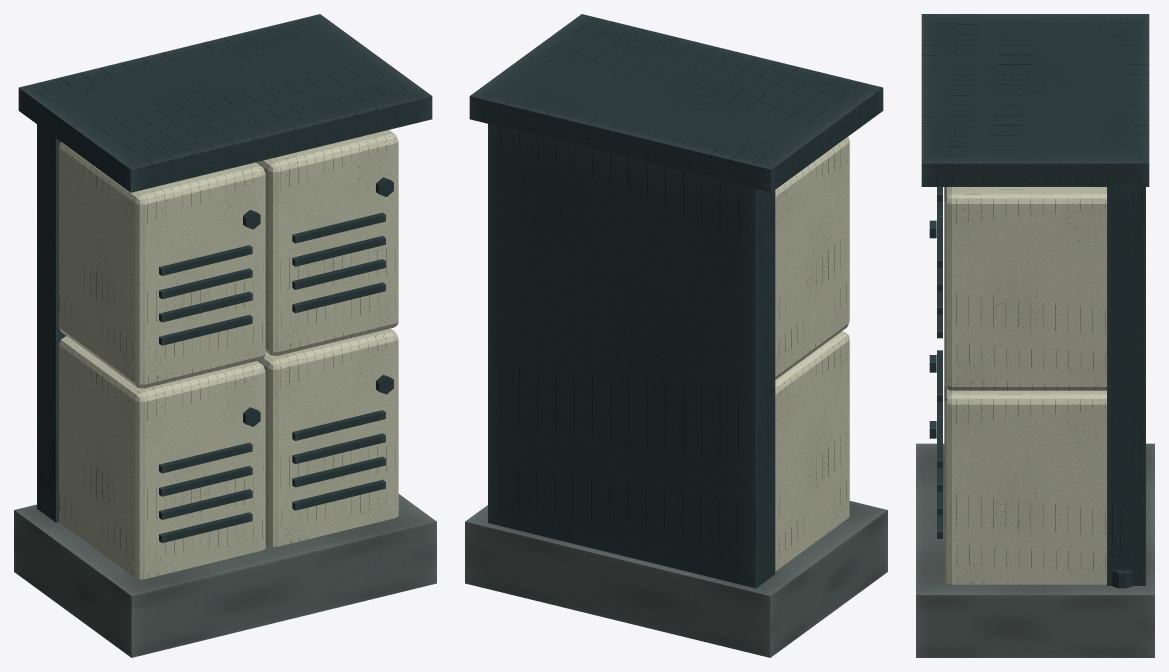
Rendered from junction_cabinet.fbx.
3 renders of one model, left to right at view 1: azimuth 30°, elevation 25°; view 2: azimuth 150°, elevation 25°; view 3: azimuth 270°, elevation 25°, orthographic.
Visible parts, largest first — view 1: junction_cabinet__weather_cap, junction_cabinet__service_panel.002, junction_cabinet__service_panel, junction_cabinet__plinth, junction_cabinet__service_panel.003, junction_cabinet__service_panel.001, junction_cabinet__back_shell, junction_cabinet__panel_vent, junction_cabinet__panel_vent.002, junction_cabinet__panel_vent.003, junction_cabinet__panel_vent.005, junction_cabinet__panel_vent.009 (+11 smaller); view 2: junction_cabinet__back_shell, junction_cabinet__weather_cap, junction_cabinet__plinth, junction_cabinet__service_panel, junction_cabinet__service_panel.002; view 3: junction_cabinet__weather_cap, junction_cabinet__service_panel.003, junction_cabinet__service_panel.001, junction_cabinet__plinth, junction_cabinet__back_shell, junction_cabinet__conduit.001.
Boxes of the visible parts, left/top/right/bottom form: junction_cabinet__weather_cap: left=18, top=14, right=432, bottom=192; junction_cabinet__service_panel.002: left=59, top=142, right=265, bottom=388; junction_cabinet__service_panel: left=59, top=336, right=265, bottom=579; junction_cabinet__plinth: left=14, top=494, right=436, bottom=657; junction_cabinet__service_panel.003: left=256, top=130, right=398, bottom=355; junction_cabinet__service_panel.001: left=258, top=328, right=398, bottom=546; junction_cabinet__back_shell: left=37, top=124, right=66, bottom=522; junction_cabinet__panel_vent: left=159, top=512, right=252, bottom=543; junction_cabinet__panel_vent.002: left=159, top=465, right=252, bottom=496; junction_cabinet__panel_vent.003: left=159, top=442, right=252, bottom=473; junction_cabinet__panel_vent.005: left=292, top=456, right=385, bottom=487; junction_cabinet__panel_vent.009: left=159, top=291, right=252, bottom=322; junction_cabinet__back_shell: left=488, top=124, right=775, bottom=588; junction_cabinet__weather_cap: left=469, top=14, right=883, bottom=192; junction_cabinet__plinth: left=465, top=501, right=887, bottom=657; junction_cabinet__service_panel: left=775, top=331, right=849, bottom=571; junction_cabinet__service_panel.002: left=775, top=137, right=849, bottom=379; junction_cabinet__weather_cap: left=921, top=14, right=1149, bottom=186; junction_cabinet__service_panel.003: left=944, top=187, right=1106, bottom=390; junction_cabinet__service_panel.001: left=944, top=384, right=1106, bottom=584; junction_cabinet__plinth: left=916, top=443, right=1154, bottom=657; junction_cabinet__back_shell: left=1107, top=187, right=1145, bottom=585; junction_cabinet__conduit.001: left=1112, top=570, right=1132, bottom=588.
Bounding box in the file's own units: 165 × 251 × 110.
Materials: 3 (3 with a texture image).
